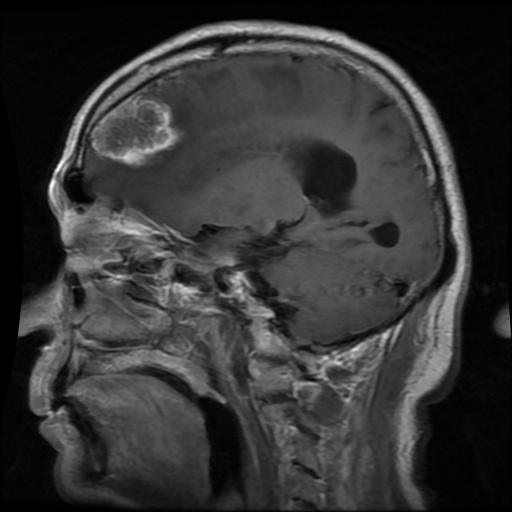meningioma: (91, 95, 180, 168)
